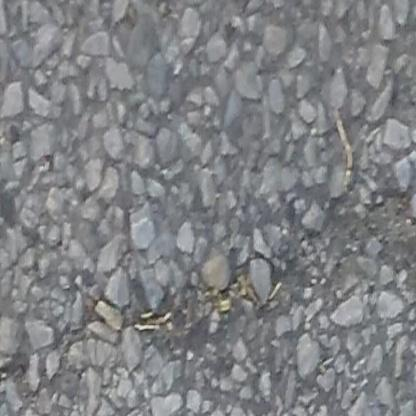Cracks: (62, 192, 416, 355), (0, 354, 34, 384)
